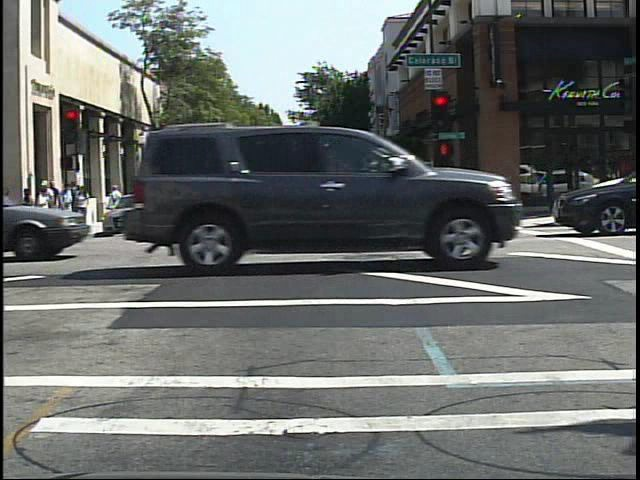person: (106, 180, 127, 227)
